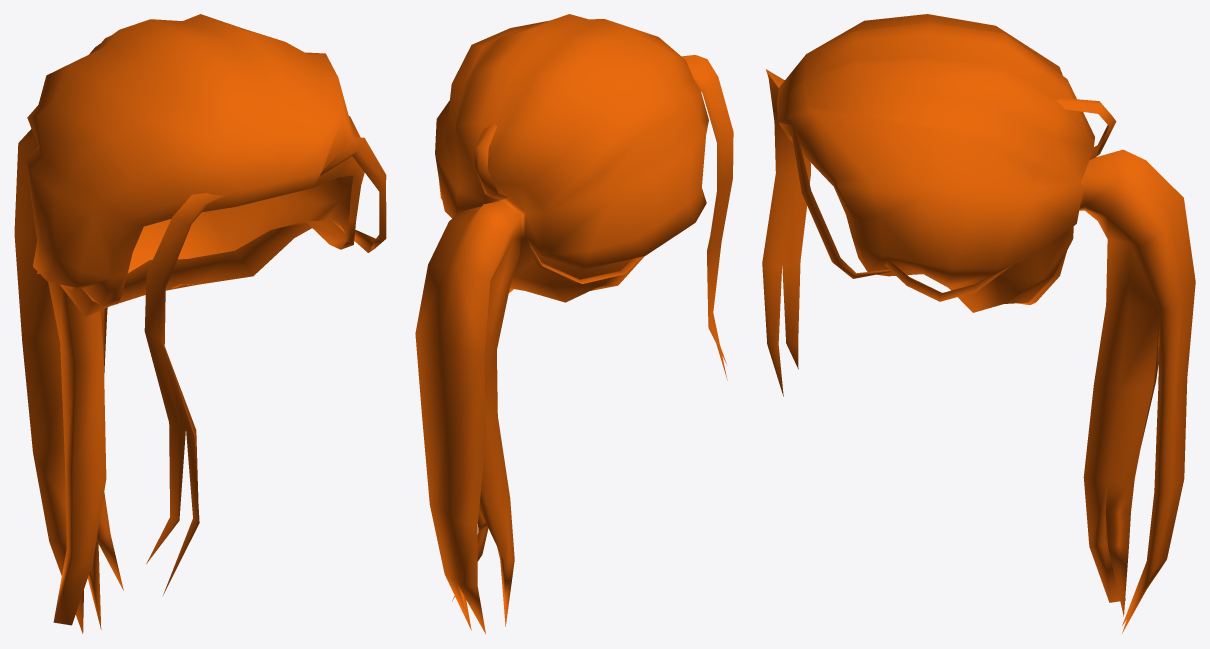
File: Hair_002.fbx
The picture shows the model from 3 angles, left to right: view 1: azimuth 30°, elevation 25°; view 2: azimuth 150°, elevation 25°; view 3: azimuth 270°, elevation 25°; orthographic projection. The views are drawn at different scales.
Parts seen in each view (by area): view 1: Hair.002; view 2: Hair.002; view 3: Hair.002.
Part boxes in pixels (x1,y1,x2,y2): Hair.002: (14,14,386,633); Hair.002: (415,14,733,633); Hair.002: (762,14,1195,633).
Bounding box in the file's own units: 104 × 215 × 142.
